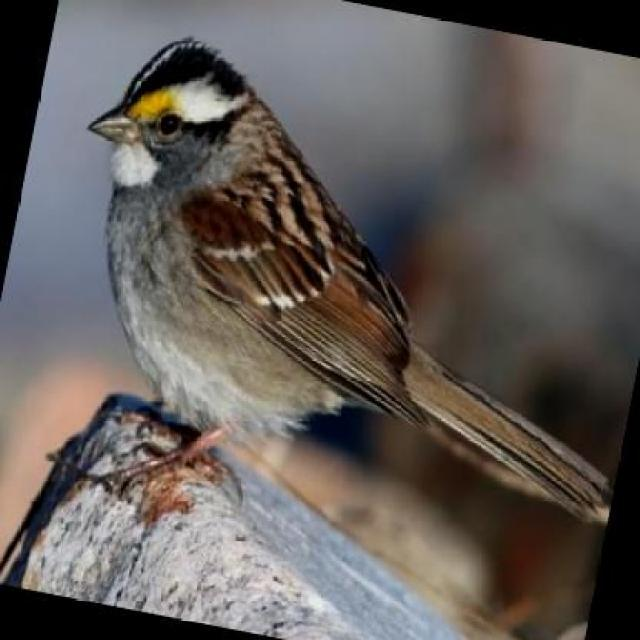Bird: (55, 18, 605, 592)
